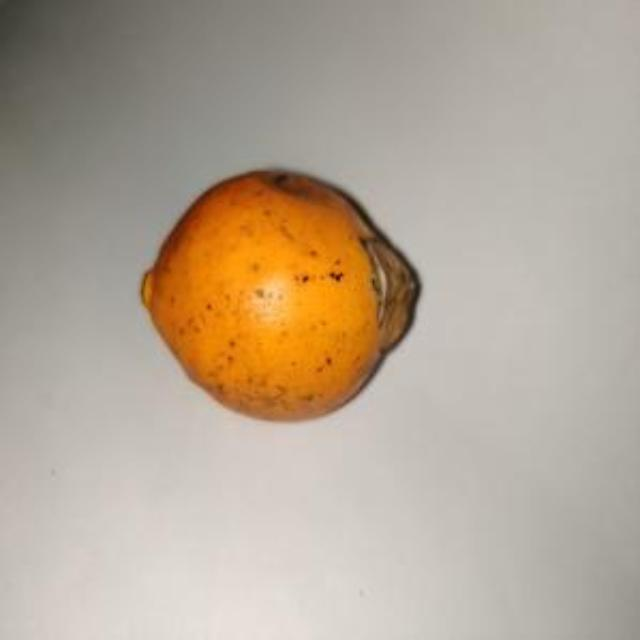good: (141, 169, 422, 426)
